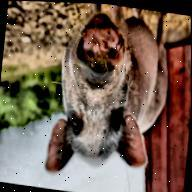boar: (40, 2, 175, 190)
